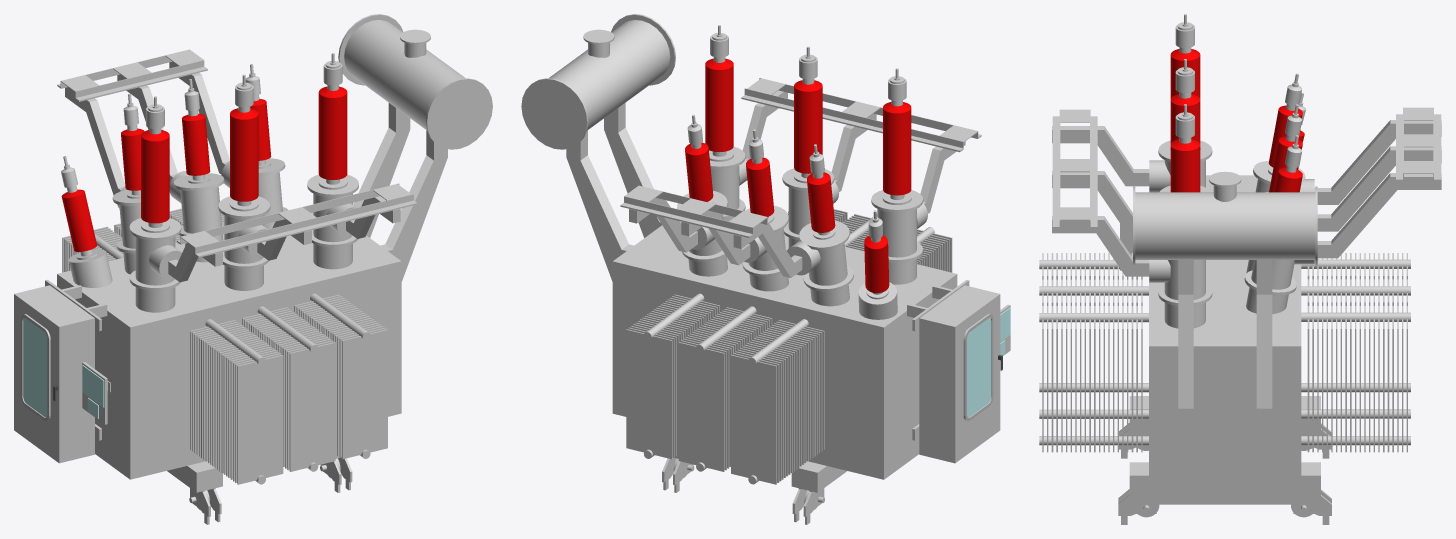
The model's file is Transformador.fbx.
3 views of the same model, side by side, from view 1: azimuth 30°, elevation 25°; view 2: azimuth 150°, elevation 25°; view 3: azimuth 270°, elevation 25° (orthographic). The views are drawn at different scales.
Parts seen in each view (by area): view 1: Group23, Group18, Group54, Group156, Group104, Group80, Group53, Soporte_Tanque2, Group226, Group55, Group221, Group32 (+31 smaller); view 2: Group23, Group18, Group54, Group128, Group206, Group180, Group52, Soporte_Tanque1, Group226, Revestimiento3, Group55, Group225 (+29 smaller); view 3: Group23, Group54, Group182, Soporte_Tanque1, Soporte_Tanque2, Group132, Group236, Group222, Group239, Group131, Group221, Revestimiento2 (+34 smaller).
Boxes of the visible parts, x1,y1,x2,y2 form: Group23: (57, 212, 401, 479); Group18: (14, 285, 94, 463); Group54: (344, 20, 465, 130); Group156: (237, 355, 283, 484); Group104: (289, 342, 335, 471); Group80: (342, 329, 387, 459); Group53: (426, 78, 492, 149); Soporte_Tanque2: (380, 130, 447, 281); Group226: (129, 218, 181, 312); Group55: (20, 314, 50, 421); Group221: (318, 86, 347, 179); Group32: (195, 194, 417, 257); Group23: (612, 221, 957, 479); Group18: (919, 285, 1000, 463); Group54: (549, 20, 670, 130); Group128: (678, 342, 724, 471); Group206: (626, 329, 672, 459); Group180: (731, 355, 776, 484); Group52: (521, 78, 588, 149); Soporte_Tanque1: (566, 130, 633, 281); Group226: (871, 190, 923, 284); Revestimiento3: (799, 220, 853, 306); Group55: (963, 314, 993, 421); Group225: (883, 102, 911, 195); Group23: (1149, 260, 1301, 504); Group54: (1135, 192, 1315, 259); Group182: (1317, 173, 1441, 258); Soporte_Tanque1: (1256, 260, 1272, 408); Soporte_Tanque2: (1178, 260, 1193, 408); Group132: (1317, 146, 1441, 231); Group236: (1314, 120, 1441, 204); Group222: (1158, 260, 1212, 328); Group239: (1052, 126, 1149, 186); Group131: (1052, 216, 1149, 276); Group221: (1170, 139, 1200, 192); Revestimiento2: (1244, 260, 1296, 314).
Bounding box in the file's own units: 4.77 × 4.5 × 3.85.
